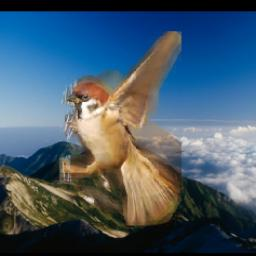Sparrow: (60, 31, 183, 226)
